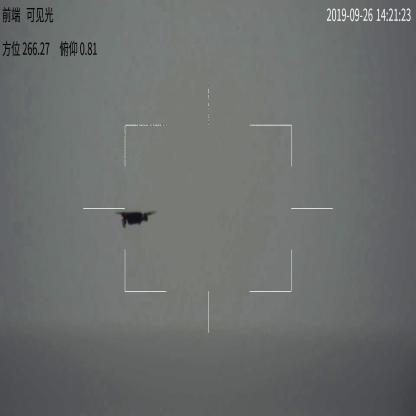uav: (116, 205, 157, 231)
